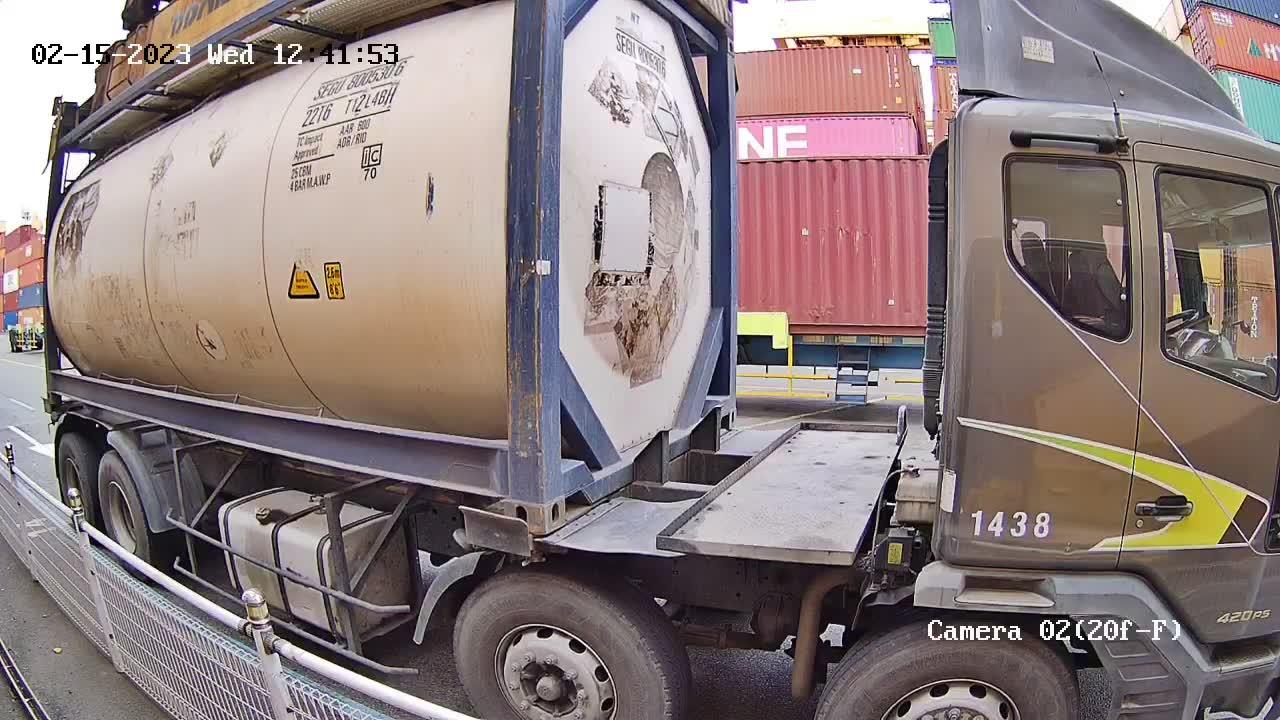Cone: (470, 524, 540, 562), (42, 400, 62, 427)
Hole_L: (543, 437, 612, 532), (44, 363, 80, 406)
Hole_R: (462, 440, 541, 536), (706, 383, 738, 437)
Tire: (453, 573, 670, 719), (818, 621, 1083, 718), (96, 453, 149, 563), (59, 438, 90, 521)
